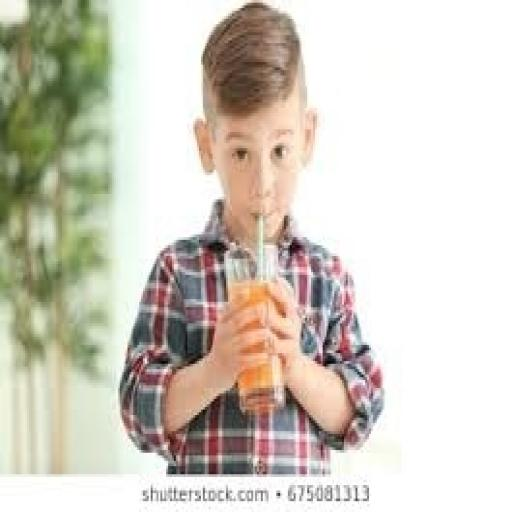drinking: (222, 0, 316, 415)
